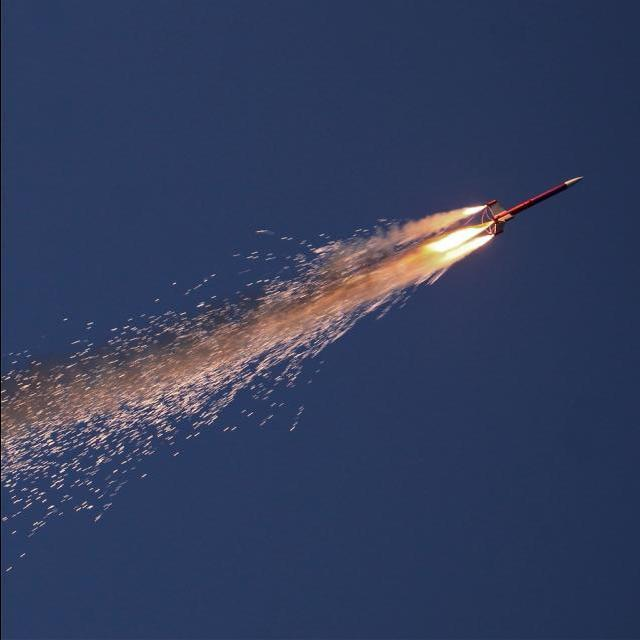missile: (487, 178, 582, 230)
